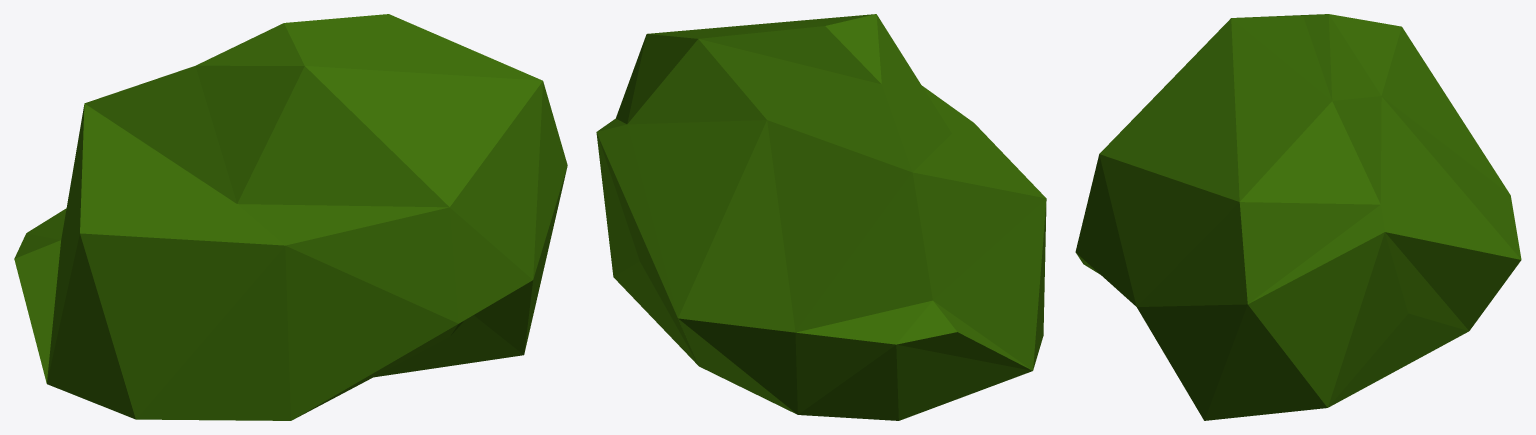
Rendered from bush_8.FBX.
3 renders of one model, left to right at view 1: azimuth 30°, elevation 25°; view 2: azimuth 150°, elevation 25°; view 3: azimuth 270°, elevation 25°, orthographic. The views are drawn at different scales.
Visible parts, largest first — view 1: bush_8; view 2: bush_8; view 3: bush_8.
Boxes of the visible parts, <box> form: bush_8: <box>14,14,567,420</box>; bush_8: <box>596,14,1046,420</box>; bush_8: <box>1075,14,1521,420</box>.
Bounding box in the file's own units: 576 × 399 × 489.
